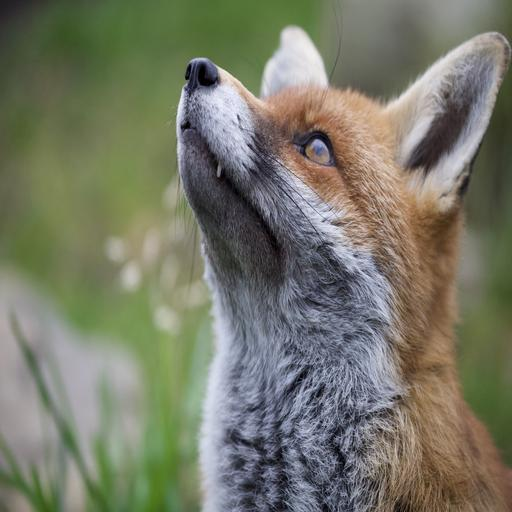Fox: (178, 23, 512, 509)
